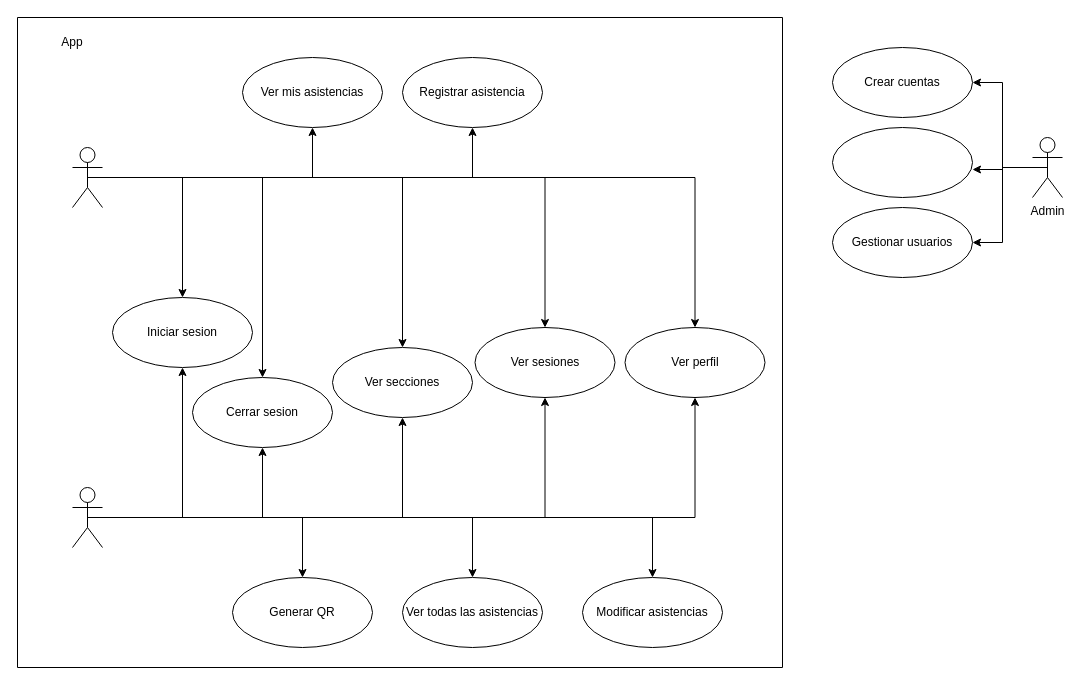
The diagram is 1082 pixels wide and 685 high, and some of its shapes have lost their labels. Each missing label, with the centre of its shape:
"Alumno" belongs at pixel 87 177.
"Gestionar matriculas" belongs at pixel 902 162.
"Profesor" belongs at pixel 87 517.
